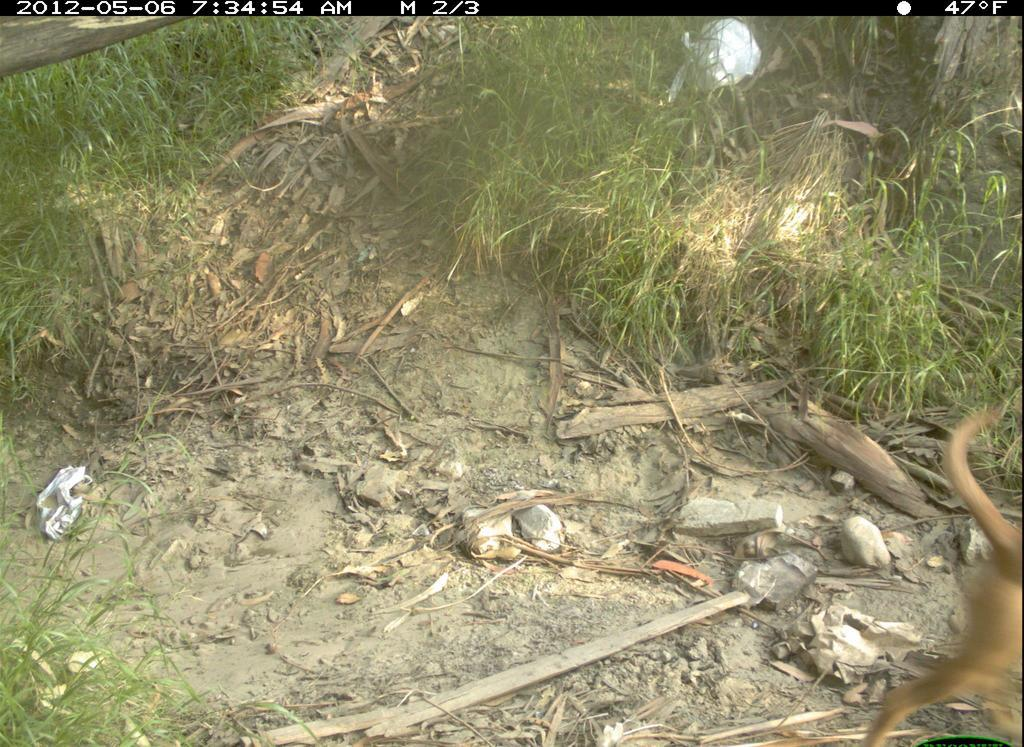dog: (847, 396, 1024, 747)
